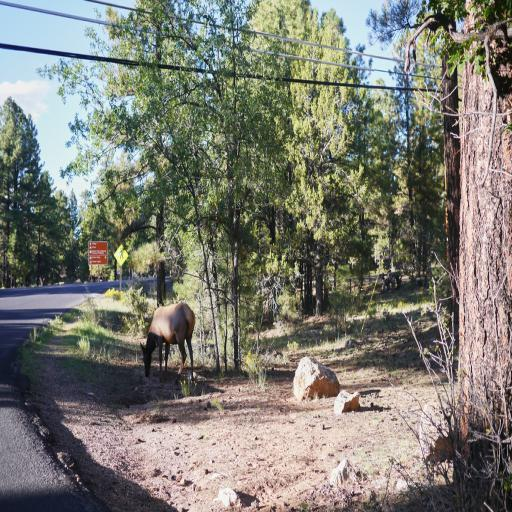horse: (140, 302, 196, 383)
